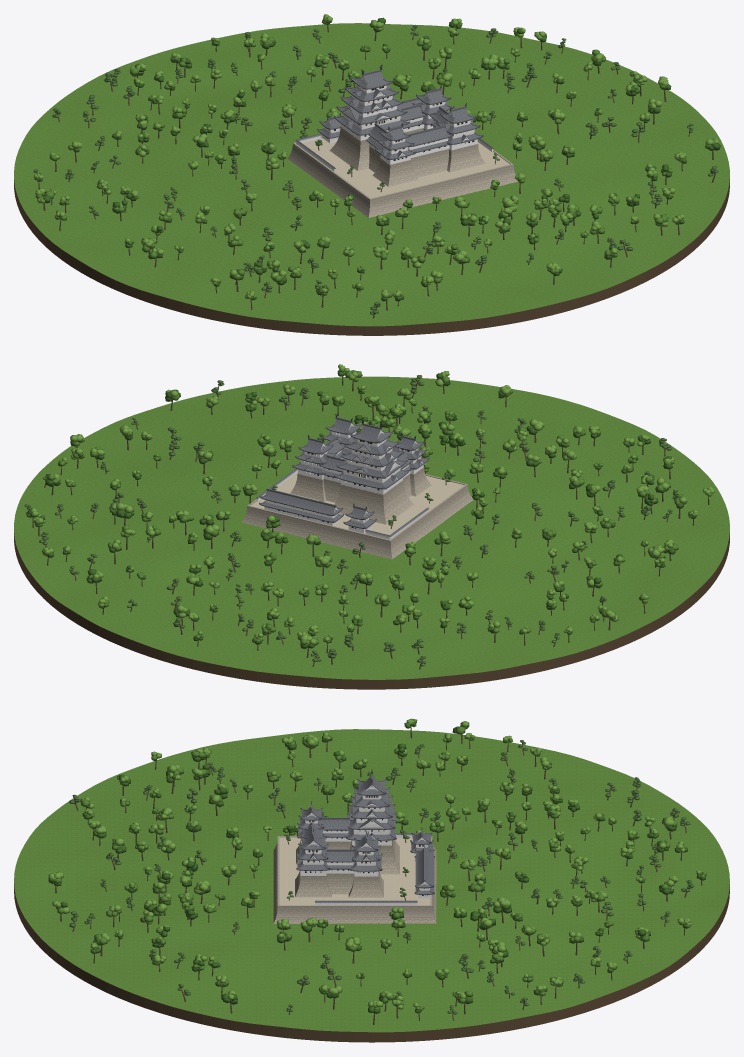
Rendered from himeji.glb.
3 views of the same model, one above another, from view 1: azimuth 30°, elevation 25°; view 2: azimuth 150°, elevation 25°; view 3: azimuth 270°, elevation 25° (orthographic).
Parts seen in each view (by area): view 1: Himeji; view 2: Himeji; view 3: Himeji.
Boxes of the visible parts, x1,y1,x2,y2 form: Himeji: (14,14,729,335); Himeji: (14,364,729,689); Himeji: (14,718,729,1042).
Size of the model in its own units: 380 by 68.79 by 380.
17 materials, 5 textured.
